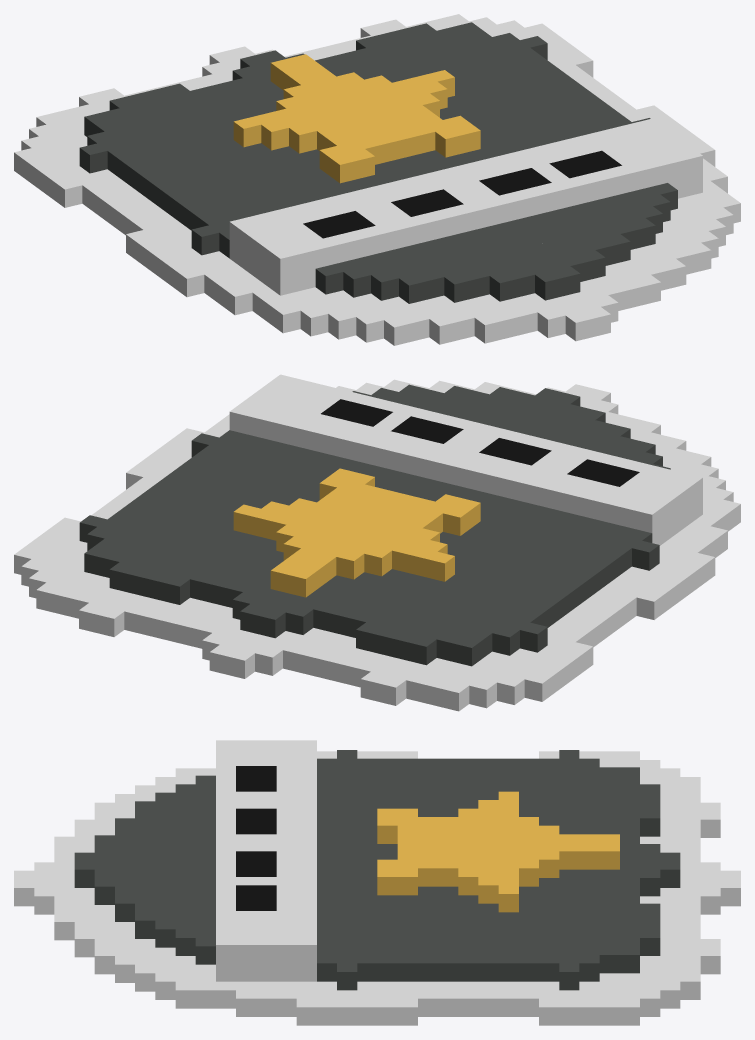
The model's file is badge_swat.glb.
The picture shows the model from 3 angles, top to bottom: view 1: azimuth 30°, elevation 25°; view 2: azimuth 150°, elevation 25°; view 3: azimuth 270°, elevation 25°; orthographic projection.
Visible parts, largest first — view 1: badge_swat:compound; view 2: badge_swat:compound; view 3: badge_swat:compound.
Part boxes in pixels (bbox=[...]): badge_swat:compound: bbox=[14, 14, 740, 345]; badge_swat:compound: bbox=[14, 374, 740, 711]; badge_swat:compound: bbox=[14, 740, 740, 1025].
Size of the model in its own units: 0.06 by 0.008 by 0.072.
